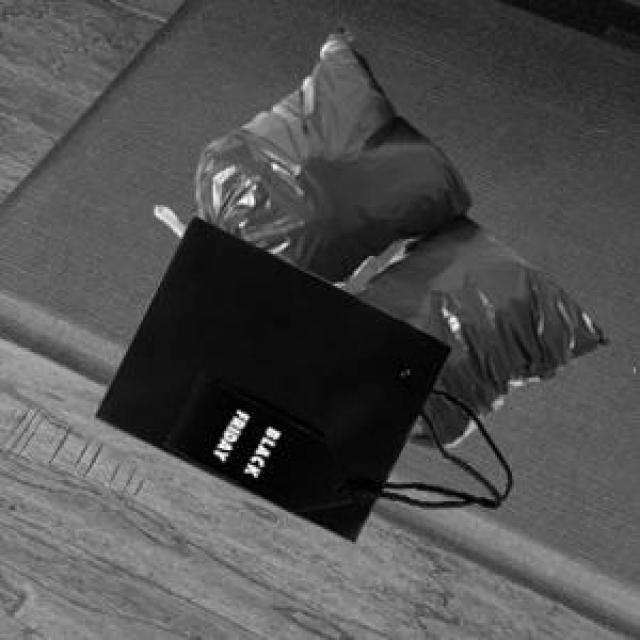miscellaneous trash: (152, 21, 606, 444)
paper: (92, 213, 508, 538)
